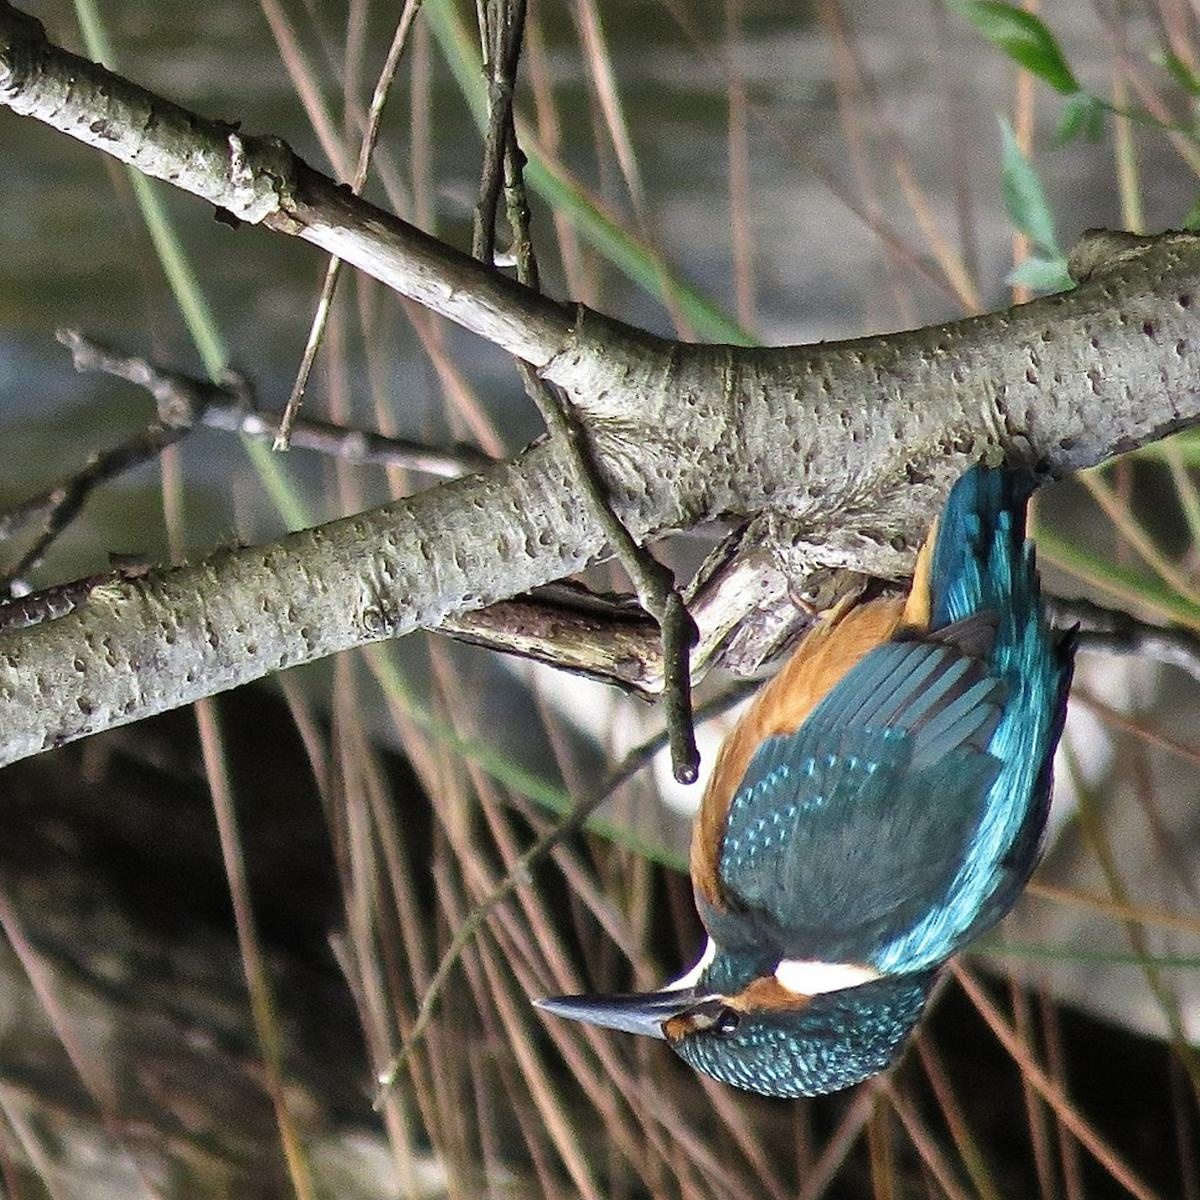kingfisher: (538, 522, 1063, 1130)
